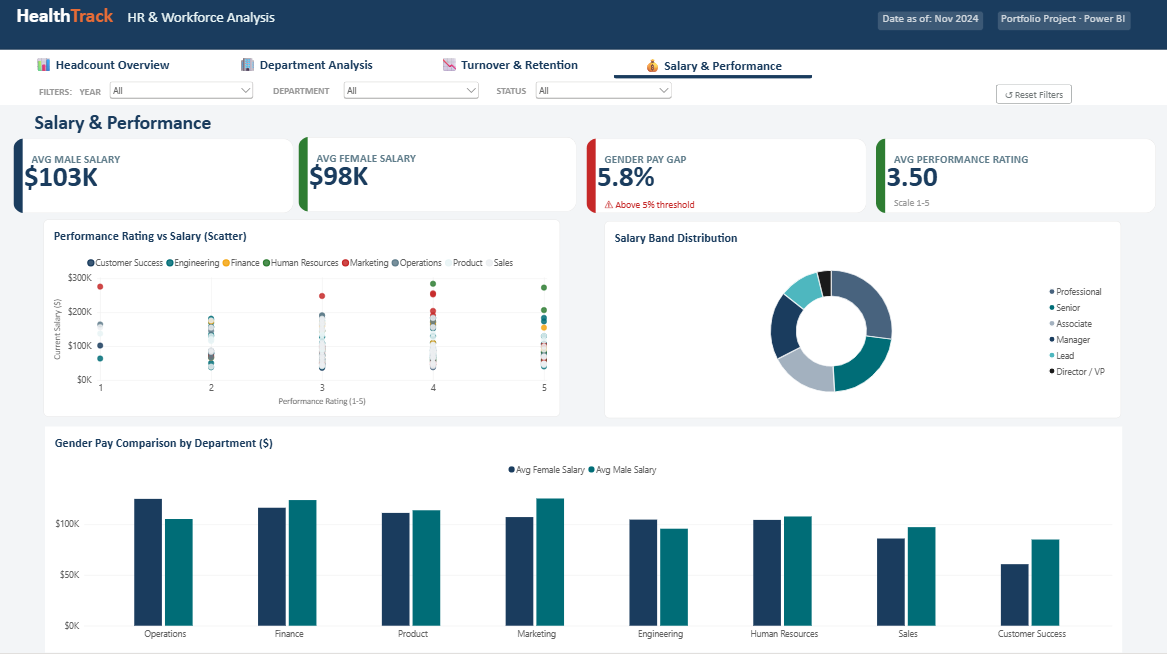

The page's visual inventory and layout, read from the dashboard file:
{"tool":"powerbi","page":{"name":"💰 Salary & Performance","canvas":[1920,1080],"ordinal":3},"visuals":[{"type":"textbox","box":[32.5,17.8,345.9,47.7],"z":0,"group":"g6"},{"type":"shape","box":[0,92.5,1920,90],"z":0},{"type":"group","id":"g1","title":"Group 3","box":[132.6,140,974.9,44.5],"z":0,"group":"g5"},{"type":"group","id":"g2","title":"Group 1","box":[132.6,140.4,289.7,43.6],"z":0,"group":"g1"},{"type":"textbox","box":[214.6,24.6,410.4,43.2],"z":1000,"group":"g6"},{"type":"slicer","fields":{"Values":["DimEmployee.EmploymentStatus"]},"box":[875.1,140,232.4,44.5],"z":1000,"group":"g4"},{"type":"slicer","fields":{"Values":["DimDate.Year"]},"box":[177.1,140.4,245.3,43.6],"z":1000,"group":"g2"},{"type":"group","id":"g3","title":"Group 2","box":[448.5,140.4,340.9,43.6],"z":1000,"group":"g1"},{"type":"slicer","fields":{"Values":["DimDate.Year"]},"box":[558.1,140.4,231.3,43.6],"z":1000,"group":"g3"},{"type":"textbox","box":[67.5,152.3,82,40.2],"z":1000,"group":"g5"},{"type":"textbox","box":[62.5,192.5,322.5,42.5],"z":1000},{"type":"shape","box":[0,7.5,1920,85],"z":2000},{"type":"group","id":"g4","title":"Group 2","box":[815.6,140,291.9,44.5],"z":2000,"group":"g1"},{"type":"group","id":"g5","title":"Group 4","box":[67.5,140,1040,52.5],"z":3000},{"type":"textbox","box":[815.6,149.6,108,32.7],"z":3000,"group":"g4"},{"type":"textbox","box":[448.5,150,108,32.7],"z":3000,"group":"g3"},{"type":"textbox","box":[132.6,152.8,55.3,31.1],"z":3000,"group":"g2"},{"type":"group","id":"g6","title":"Group 5","box":[32.5,17.8,592.5,50],"z":4000},{"type":"group","id":"g7","title":"Group 7","box":[493.3,236.7,455,122.5],"z":4000,"group":"g11"},{"type":"group","id":"g8","title":"Group 7","box":[26.9,236.9,458.7,122.5],"z":4000,"group":"g12"},{"type":"group","id":"g9","title":"Group 7","box":[964,236.9,458.1,122.5],"z":4000,"group":"g14"},{"type":"group","id":"g10","title":"Group 7","box":[1437.5,236.9,458.1,122.5],"z":4000,"group":"g16"},{"type":"pageNavigator","box":[10,92.5,1325,47.5],"z":5000},{"type":"textbox","box":[523.1,257.7,417.8,97],"z":5000,"group":"g11"},{"type":"textbox","box":[57,257.9,421.2,97],"z":5000,"group":"g12"},{"type":"textbox","box":[994,257.9,420.7,97],"z":5000,"group":"g14"},{"type":"textbox","box":[1467.5,257.9,420.7,97],"z":5000,"group":"g16"},{"type":"group","id":"g11","title":"Group 8","box":[493.3,236.7,455,122.5],"z":5001,"group":"g20"},{"type":"group","id":"g12","title":"Group 8","box":[26.9,236.9,458.7,122.5],"z":5001,"group":"g19"},{"type":"group","id":"g13","title":"Group 9","box":[964,236.9,472.5,122.5],"z":5001,"group":"g21"},{"type":"group","id":"g14","title":"Group 8","box":[964,236.9,458.1,122.5],"z":5001,"group":"g13"},{"type":"group","id":"g15","title":"Group 9","box":[1437.5,236.9,472.5,122.5],"z":5001,"group":"g18"},{"type":"group","id":"g16","title":"Group 8","box":[1437.5,236.9,458.1,122.5],"z":5001,"group":"g15"},{"type":"actionButton","title":"Reset Filters","box":[1635,150,124.3,31.4],"z":6000},{"type":"cardVisual","fields":{"Data":["Measure.Avg Female Salary"]},"box":[493.3,236.7,455,122.5],"z":6000,"group":"g7"},{"type":"cardVisual","fields":{"Data":["Measure.Avg Male Salary"]},"box":[26.9,236.9,458.7,122.5],"z":6000,"group":"g8"},{"type":"cardVisual","fields":{"Data":["Measure.Gender Pay Gap %"]},"box":[964,236.9,458.1,122.5],"z":6000,"group":"g9"},{"type":"cardVisual","fields":{"Data":["Measure.Avg Performance Rating"]},"box":[1437.5,236.9,458.1,122.5],"z":6000,"group":"g10"},{"type":"textbox","box":[519.2,331.5,414.2,21.5],"z":6000,"group":"g20"},{"type":"textbox","box":[58.5,332.5,448.7,21.5],"z":6000,"group":"g19"},{"type":"textbox","box":[993.1,333.1,443.4,21.7],"z":6000,"group":"g13"},{"type":"textbox","box":[1466.6,333.1,443.4,21.7],"z":6000,"group":"g15"},{"type":"group","id":"g17","title":"Group 11","box":[1440,30,415,32.5],"z":7000},{"type":"scatterChart","title":"Performance Rating vs Salary (Scatter)","fields":{"Category":["DimEmployee.EmployeeID"],"Series":["DimDepartment.DepartmentName"],"X":["Measure.Avg Performance Rating"],"Y":["Measure.Avg Salary"]},"box":[76.7,370,845,322.5],"z":8000},{"type":"donutChart","title":"Salary Band Distribution","fields":{"Category":["DimSalaryBand.BandName"],"Y":["CountNonNull(DimEmployee.EmployeeID)"]},"box":[995,373.3,845,322.5],"z":9000},{"type":"textbox","box":[1636.2,30,218.9,32.1],"z":10000,"group":"g17"},{"type":"clusteredColumnChart","title":"Gender Pay Comparison by Department ($)","fields":{"Category":["DimDepartment.DepartmentName"],"Y":["Measure.Avg Female Salary","Measure.Avg Male Salary"]},"box":[77.5,710,1762.5,370],"z":10000},{"type":"textbox","box":[1440,30,173.6,32.1],"z":11000,"group":"g17"},{"type":"group","id":"g18","title":"Group 6","box":[1437.5,236.9,472.5,122.5],"z":11000},{"type":"group","id":"g19","title":"Group 9","box":[26.9,236.9,480,122.5],"z":12000},{"type":"group","id":"g20","title":"Group 9","box":[493.3,236.7,455,123.3],"z":13000},{"type":"group","id":"g21","title":"Group 6","box":[964,236.9,472.5,122.5],"z":14000}]}

Visuals, with their boxes in screenshot pixels (x1, y1, x2, y2), scaled from the page's 1920x1080 canvas onto the 1167x654 screenshot:
textbox: pyautogui.locateOnScreen(20, 11, 230, 40)
shape: pyautogui.locateOnScreen(0, 56, 1166, 111)
"Group 3" group: pyautogui.locateOnScreen(81, 85, 673, 112)
"Group 1" group: pyautogui.locateOnScreen(81, 85, 257, 111)
textbox: pyautogui.locateOnScreen(130, 15, 380, 41)
slicer - DimEmployee.EmploymentStatus: pyautogui.locateOnScreen(532, 85, 673, 112)
slicer - DimDate.Year: pyautogui.locateOnScreen(108, 85, 257, 111)
"Group 2" group: pyautogui.locateOnScreen(273, 85, 480, 111)
slicer - DimDate.Year: pyautogui.locateOnScreen(339, 85, 480, 111)
textbox: pyautogui.locateOnScreen(41, 92, 91, 117)
textbox: pyautogui.locateOnScreen(38, 117, 234, 142)
shape: pyautogui.locateOnScreen(0, 5, 1166, 56)
"Group 2" group: pyautogui.locateOnScreen(496, 85, 673, 112)
"Group 4" group: pyautogui.locateOnScreen(41, 85, 673, 117)
textbox: pyautogui.locateOnScreen(496, 91, 561, 110)
textbox: pyautogui.locateOnScreen(273, 91, 338, 111)
textbox: pyautogui.locateOnScreen(81, 93, 114, 111)
"Group 5" group: pyautogui.locateOnScreen(20, 11, 380, 41)
"Group 7" group: pyautogui.locateOnScreen(300, 143, 576, 218)
"Group 7" group: pyautogui.locateOnScreen(16, 143, 295, 218)
"Group 7" group: pyautogui.locateOnScreen(586, 143, 864, 218)
"Group 7" group: pyautogui.locateOnScreen(874, 143, 1152, 218)
pageNavigator: pyautogui.locateOnScreen(6, 56, 811, 85)
textbox: pyautogui.locateOnScreen(318, 156, 572, 215)
textbox: pyautogui.locateOnScreen(35, 156, 291, 215)
textbox: pyautogui.locateOnScreen(604, 156, 860, 215)
textbox: pyautogui.locateOnScreen(892, 156, 1148, 215)
"Group 8" group: pyautogui.locateOnScreen(300, 143, 576, 218)
"Group 8" group: pyautogui.locateOnScreen(16, 143, 295, 218)
"Group 9" group: pyautogui.locateOnScreen(586, 143, 873, 218)
"Group 8" group: pyautogui.locateOnScreen(586, 143, 864, 218)
"Group 9" group: pyautogui.locateOnScreen(874, 143, 1161, 218)
"Group 8" group: pyautogui.locateOnScreen(874, 143, 1152, 218)
"Reset Filters" actionButton: pyautogui.locateOnScreen(994, 91, 1069, 110)
cardVisual - Measure.Avg Female Salary: pyautogui.locateOnScreen(300, 143, 576, 218)
cardVisual - Measure.Avg Male Salary: pyautogui.locateOnScreen(16, 143, 295, 218)
cardVisual - Measure.Gender Pay Gap %: pyautogui.locateOnScreen(586, 143, 864, 218)
cardVisual - Measure.Avg Performance Rating: pyautogui.locateOnScreen(874, 143, 1152, 218)
textbox: pyautogui.locateOnScreen(316, 201, 567, 214)
textbox: pyautogui.locateOnScreen(36, 201, 308, 214)
textbox: pyautogui.locateOnScreen(604, 202, 873, 215)
textbox: pyautogui.locateOnScreen(891, 202, 1161, 215)
"Group 11" group: pyautogui.locateOnScreen(875, 18, 1127, 38)
"Performance Rating vs Salary (Scatter)" scatterChart: pyautogui.locateOnScreen(47, 224, 560, 419)
"Salary Band Distribution" donutChart: pyautogui.locateOnScreen(605, 226, 1118, 421)
textbox: pyautogui.locateOnScreen(995, 18, 1128, 38)
"Gender Pay Comparison by Department ($)" clusteredColumnChart: pyautogui.locateOnScreen(47, 430, 1118, 653)
textbox: pyautogui.locateOnScreen(875, 18, 981, 38)
"Group 6" group: pyautogui.locateOnScreen(874, 143, 1161, 218)
"Group 9" group: pyautogui.locateOnScreen(16, 143, 308, 218)
"Group 9" group: pyautogui.locateOnScreen(300, 143, 576, 218)
"Group 6" group: pyautogui.locateOnScreen(586, 143, 873, 218)
